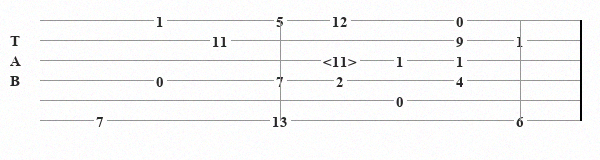0: (156, 73, 168, 87), (396, 93, 408, 107), (456, 13, 468, 27)
1: (156, 13, 168, 27), (396, 53, 408, 67), (456, 53, 468, 67), (516, 33, 528, 47)
11: (212, 33, 232, 47)
12: (332, 13, 352, 27)
13: (272, 113, 292, 127)
2: (336, 73, 348, 87)
4: (456, 73, 468, 87)
5: (276, 13, 288, 27)
6: (516, 113, 528, 127)
7: (96, 113, 108, 127), (276, 73, 288, 87)
9: (456, 33, 468, 47)
harmonic: (323, 53, 361, 67)
